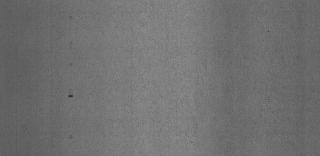oil spot: (66, 40, 74, 50), (68, 89, 74, 99), (69, 12, 73, 20), (70, 62, 74, 68), (68, 135, 72, 141)
